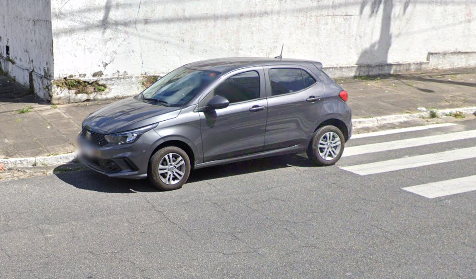car: (77, 43, 355, 192)
